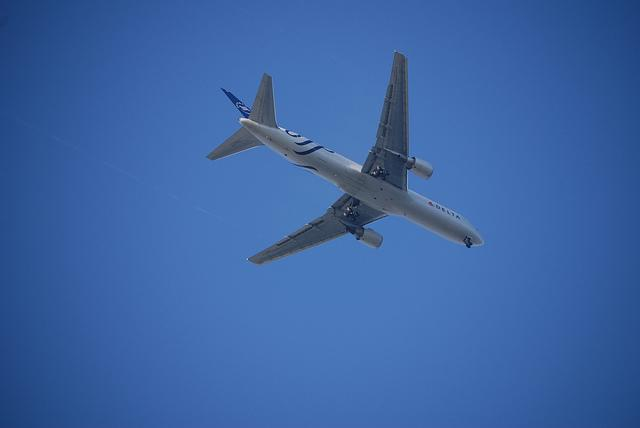airplane: (203, 48, 487, 268)
